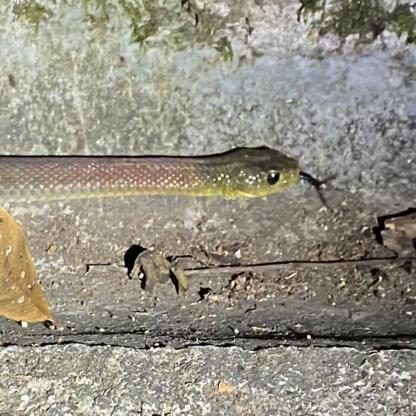Snake: (0, 142, 333, 206)
